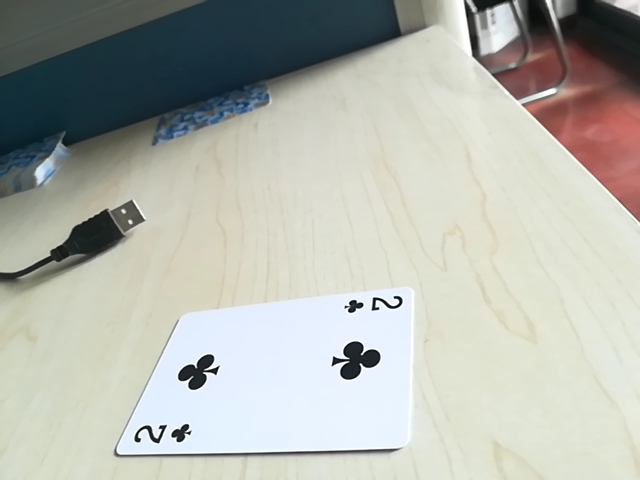mh 2: (121, 416, 197, 456), (345, 291, 408, 319)
